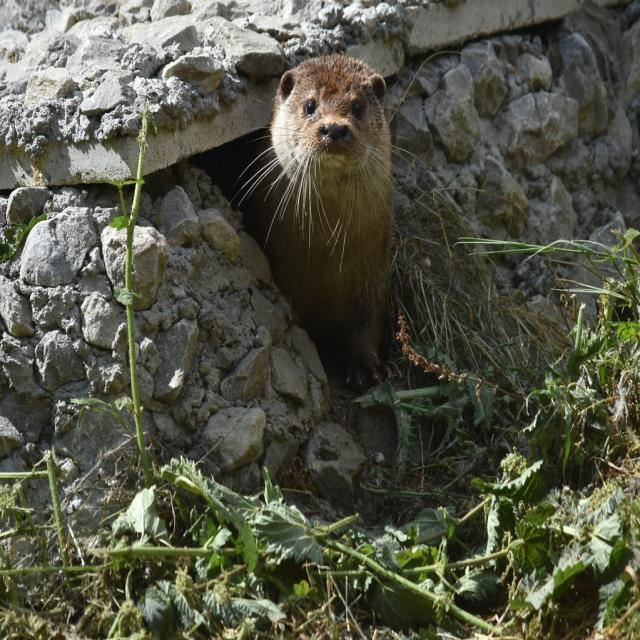otter: (271, 56, 393, 237)
